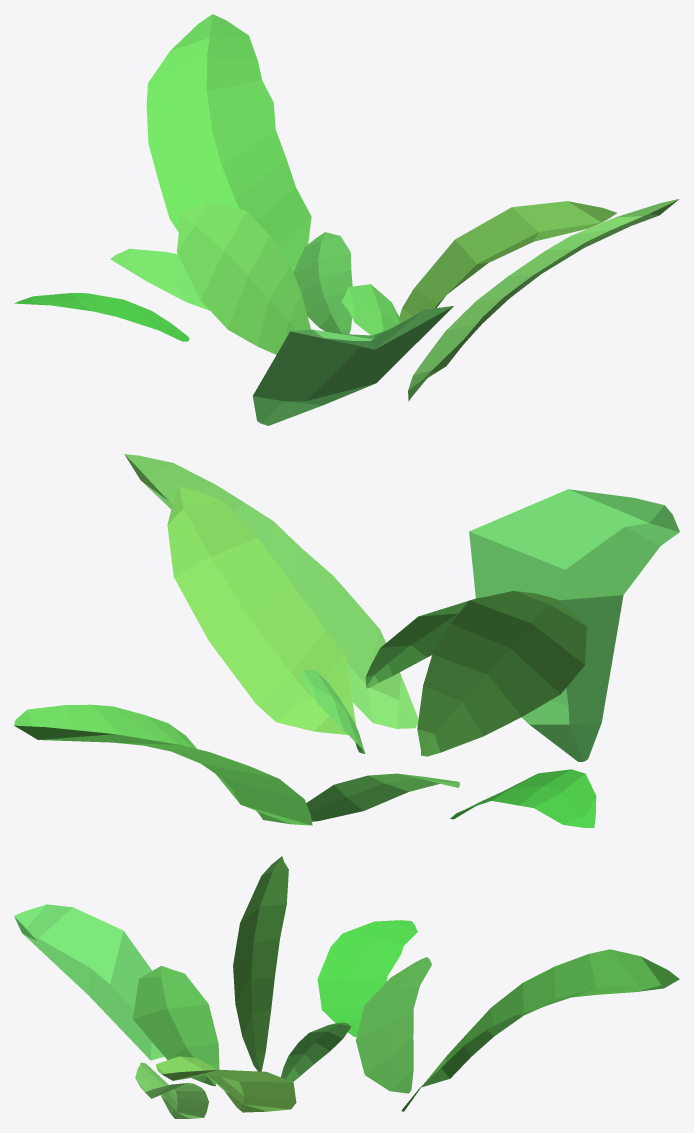
File: leaf5.fbx
3 renders of one model, top to bottom at view 1: azimuth 30°, elevation 25°; view 2: azimuth 150°, elevation 25°; view 3: azimuth 270°, elevation 25°, orthographic. The views are drawn at different scales.
Visible parts, largest first — view 1: Plane.001, Plane, Plane.006, Plane.003, Plane.005, Plane.004, Plane.002, Plane.009, Plane.008; view 2: Plane.006, Plane.003, Plane, Plane.005, Plane.001, Plane.009, Plane.002, Plane.008, Plane.004; view 3: Plane.006, Plane.001, Plane, Plane.009, Plane.008, Plane.002, Plane.003, Plane.005, Plane.004.
Boxes of the visible parts, x1,y1,x2,y2 form: Plane.001: (146,14,311,271); Plane: (176,201,310,354); Plane.006: (252,306,453,425); Plane.003: (399,201,616,321); Plane.005: (408,199,678,401); Plane.004: (293,232,352,334); Plane.002: (110,248,209,310); Plane.009: (14,293,189,341); Plane.008: (341,284,401,335); Plane.006: (469,489,679,761); Plane.003: (167,486,356,734); Plane: (417,591,586,756); Plane.005: (124,454,418,728); Plane.001: (14,704,312,825); Plane.009: (450,769,596,827); Plane.002: (306,773,459,821); Plane.008: (365,597,482,688); Plane.004: (300,669,365,753); Plane.006: (14,904,163,1060); Plane.001: (401,949,679,1111); Plane: (233,856,288,1071); Plane.009: (317,920,417,1036); Plane.008: (133,965,219,1086); Plane.002: (356,957,431,1093); Plane.003: (155,1056,296,1112); Plane.005: (135,1062,208,1118); Plane.004: (281,1022,350,1081).
Bounding box in the file's own units: 128 × 44.31 × 146.
